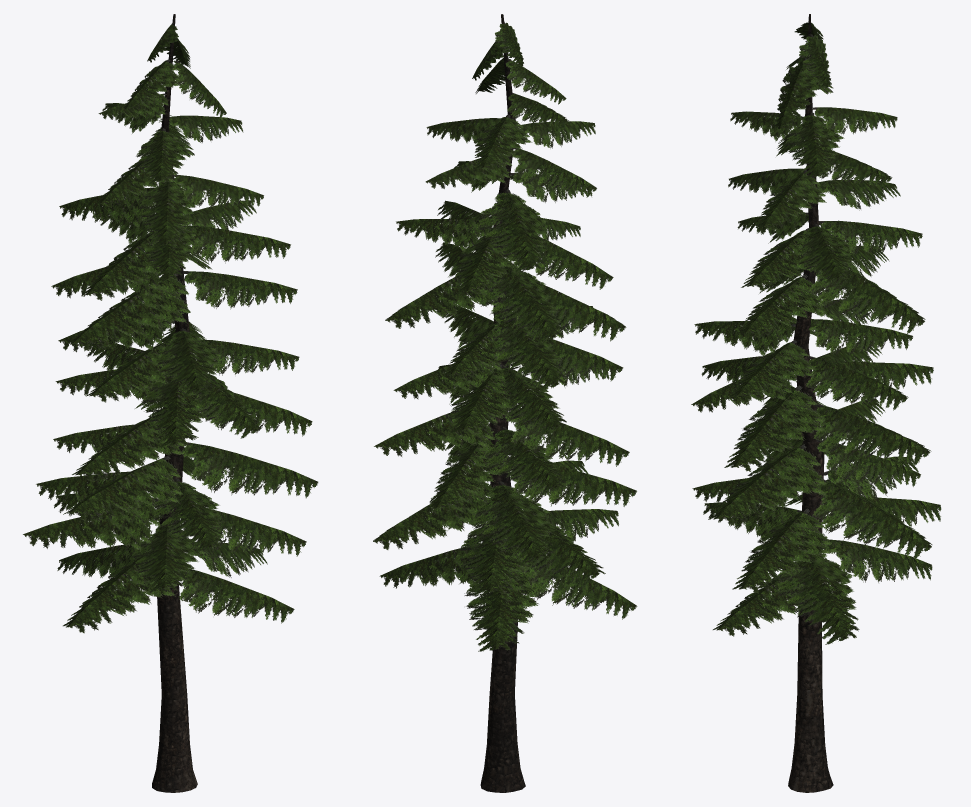
Rendered from tree_3.glb.
The picture shows the model from 3 angles, left to right: view 1: azimuth 30°, elevation 25°; view 2: azimuth 150°, elevation 25°; view 3: azimuth 270°, elevation 25°; orthographic projection.
Parts seen in each view (by area): view 1: tree_3_branches, tree_3; view 2: tree_3_branches, tree_3; view 3: tree_3_branches, tree_3.
Part boxes in pixels (<box>): tree_3_branches: <box>23,22,318,633</box>; tree_3: <box>152,14,197,792</box>; tree_3_branches: <box>373,22,637,651</box>; tree_3: <box>480,14,525,792</box>; tree_3_branches: <box>691,21,941,644</box>; tree_3: <box>788,14,833,792</box>.
Bounding box in the file's own units: 2.16 × 6.02 × 1.96.
Materials: 2 (2 with a texture image).
